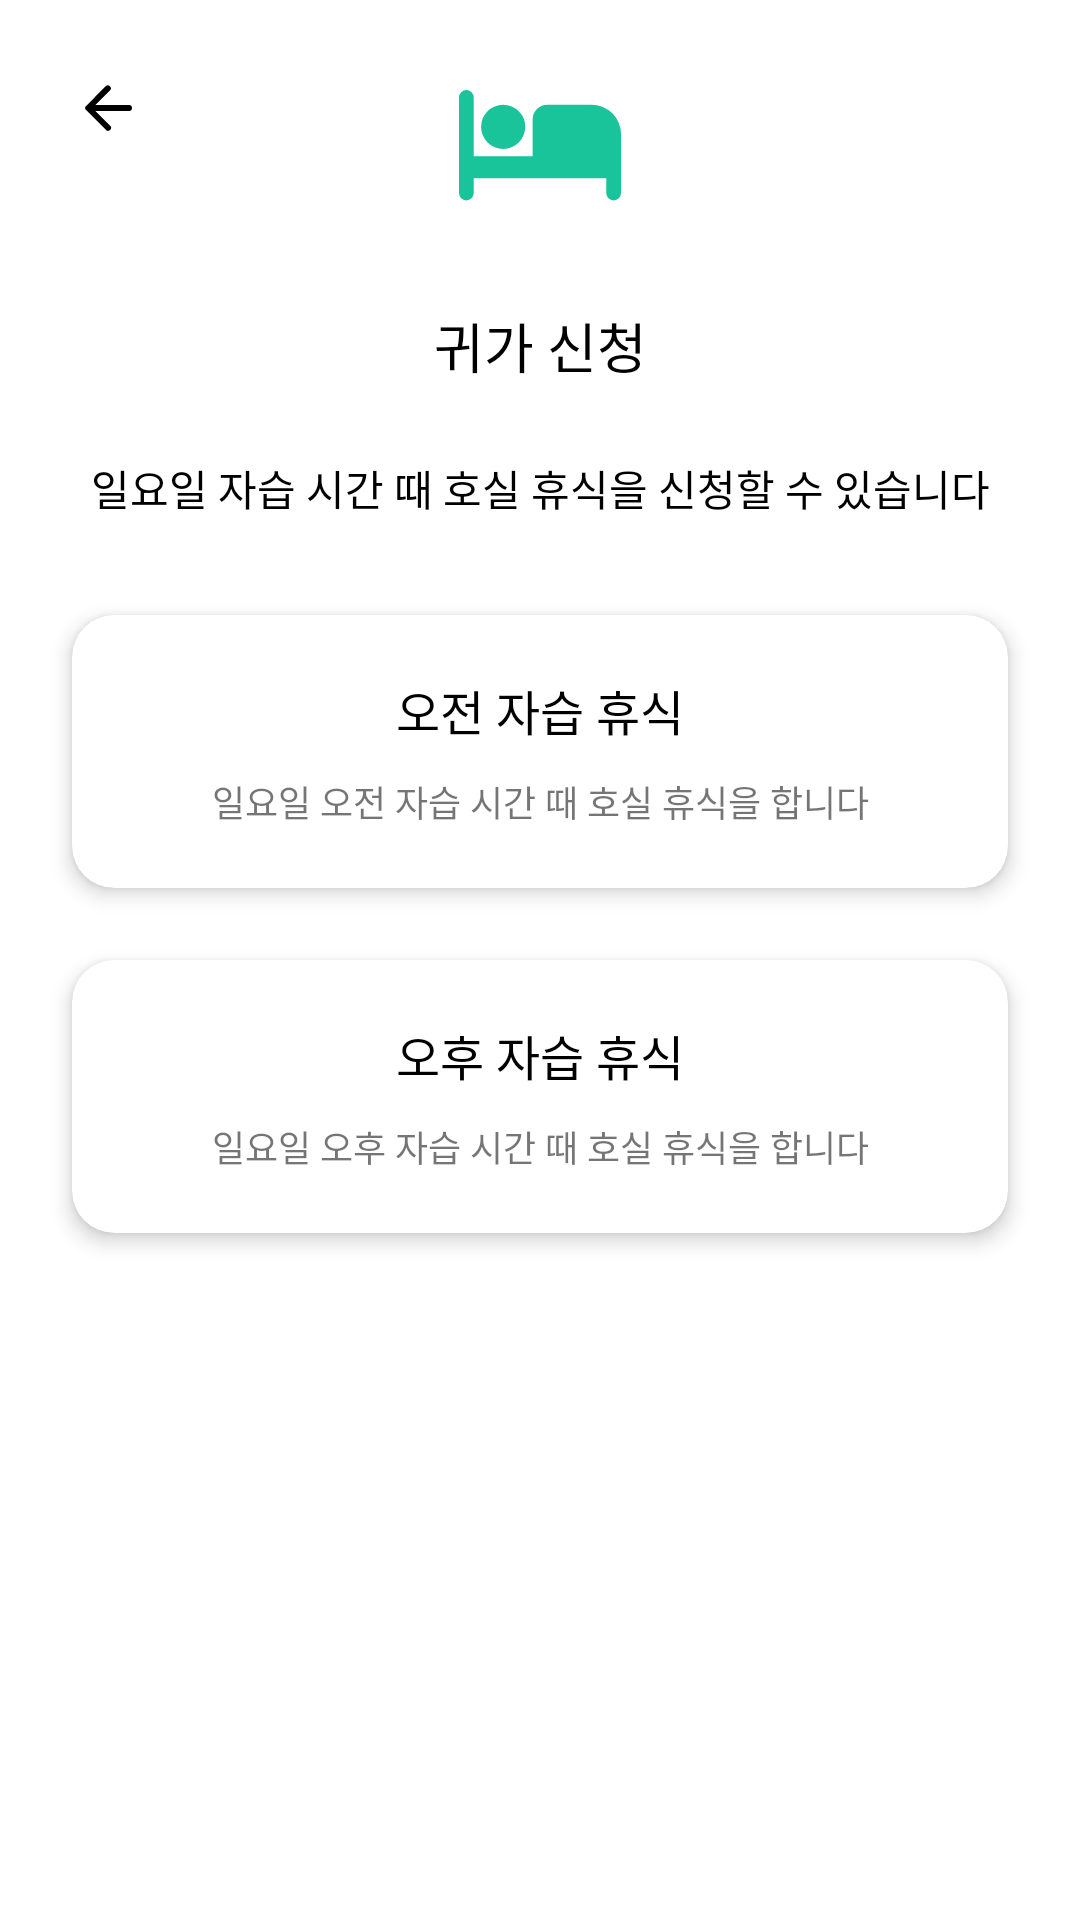

Locate icon controls on the screen. Image size 1080 × 1920, boxes as (x1, y1, x2, y2).
back: (85, 85, 132, 131)
rest: (459, 90, 621, 201)
